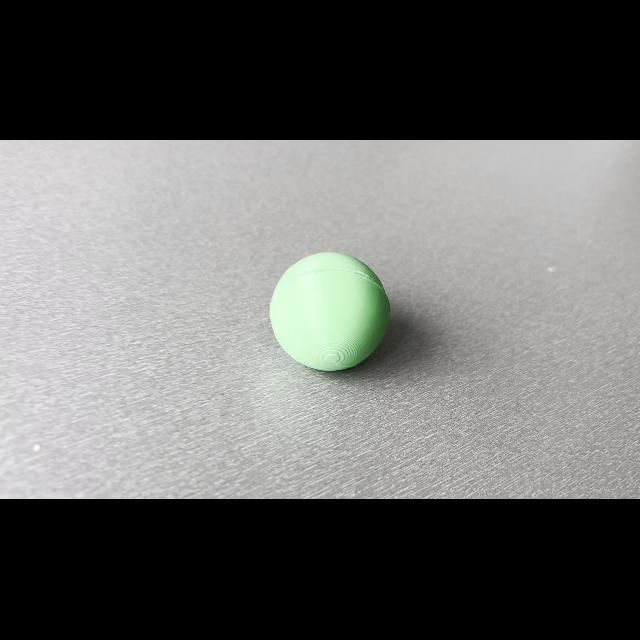objects: (264, 244, 402, 376)
